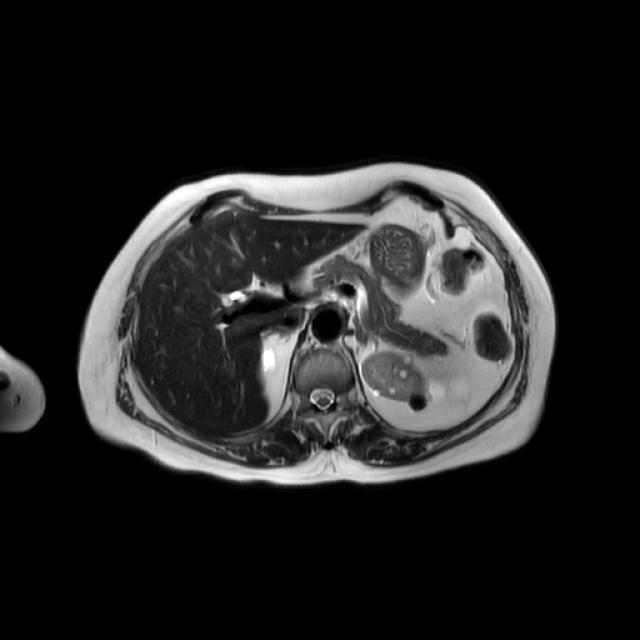sag: (262, 347, 276, 375)
sol: (361, 351, 446, 412)
